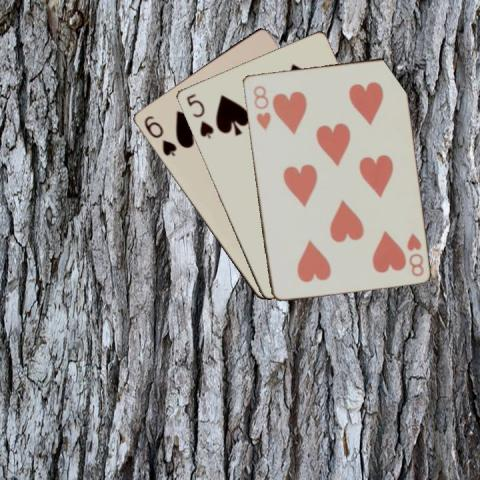5s: (183, 90, 215, 140)
6s: (141, 113, 178, 157)
8h: (250, 82, 272, 132), (403, 229, 425, 278)
